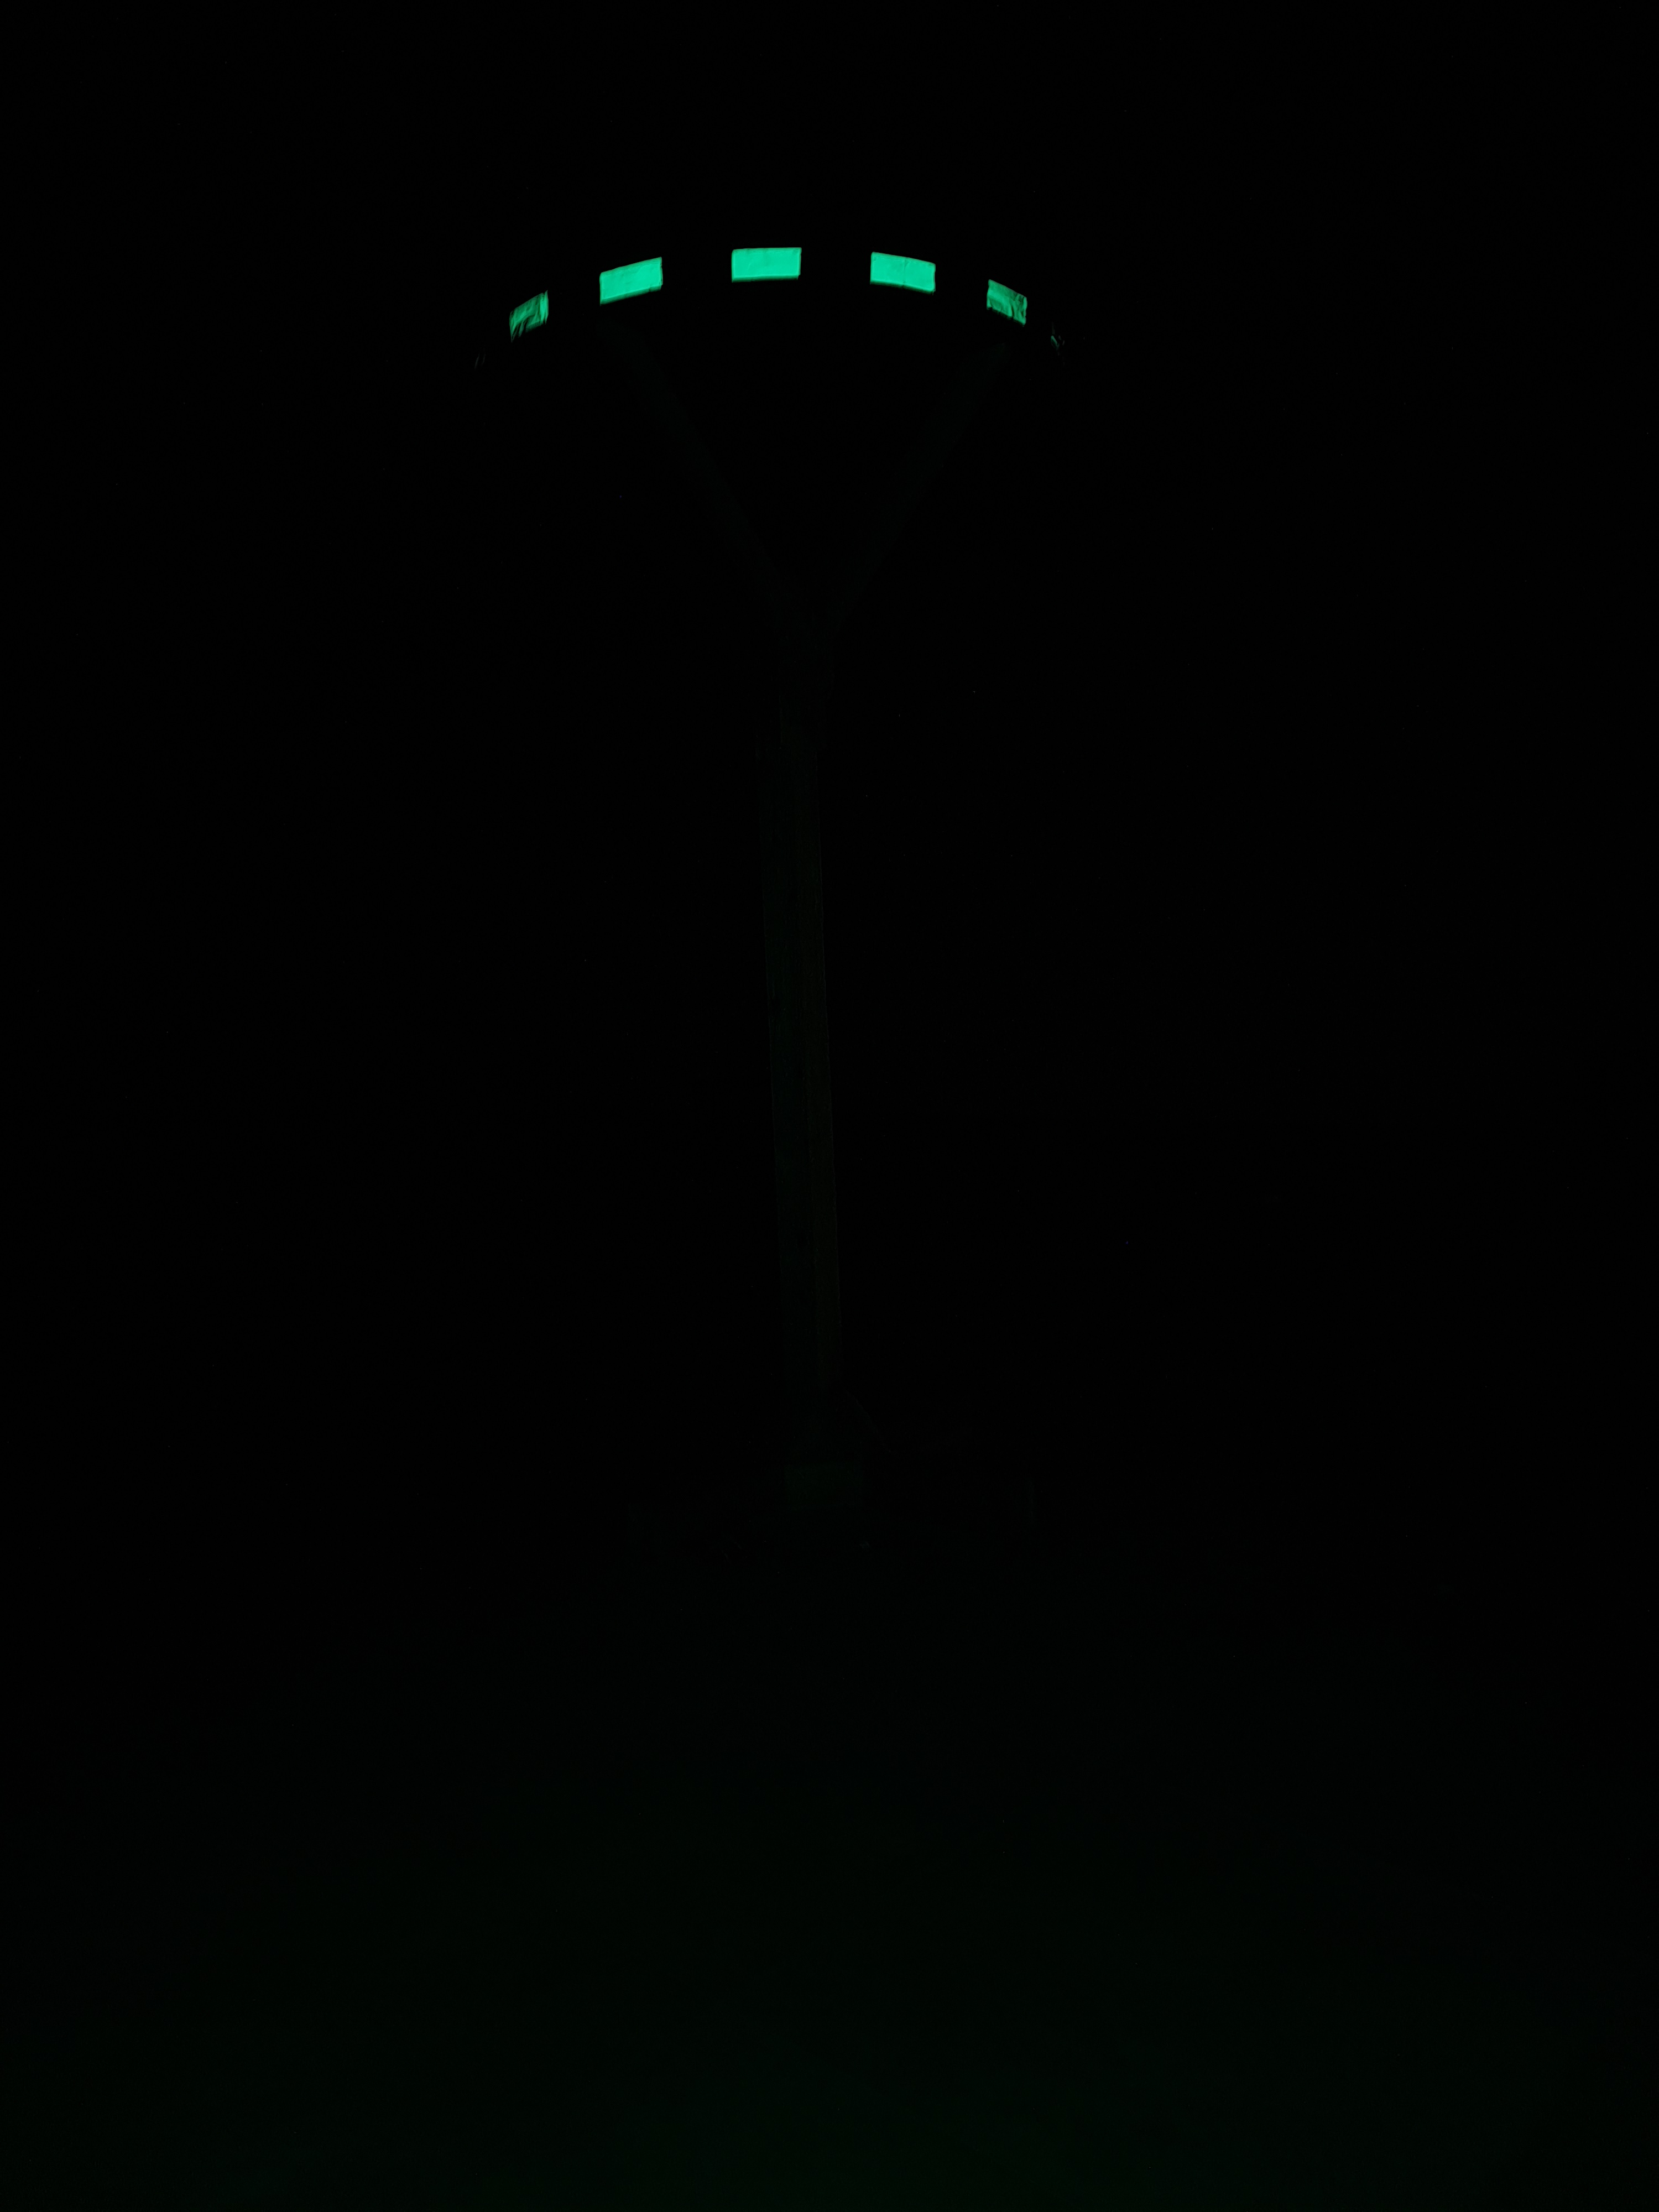hoop: (512, 244, 1035, 340)
